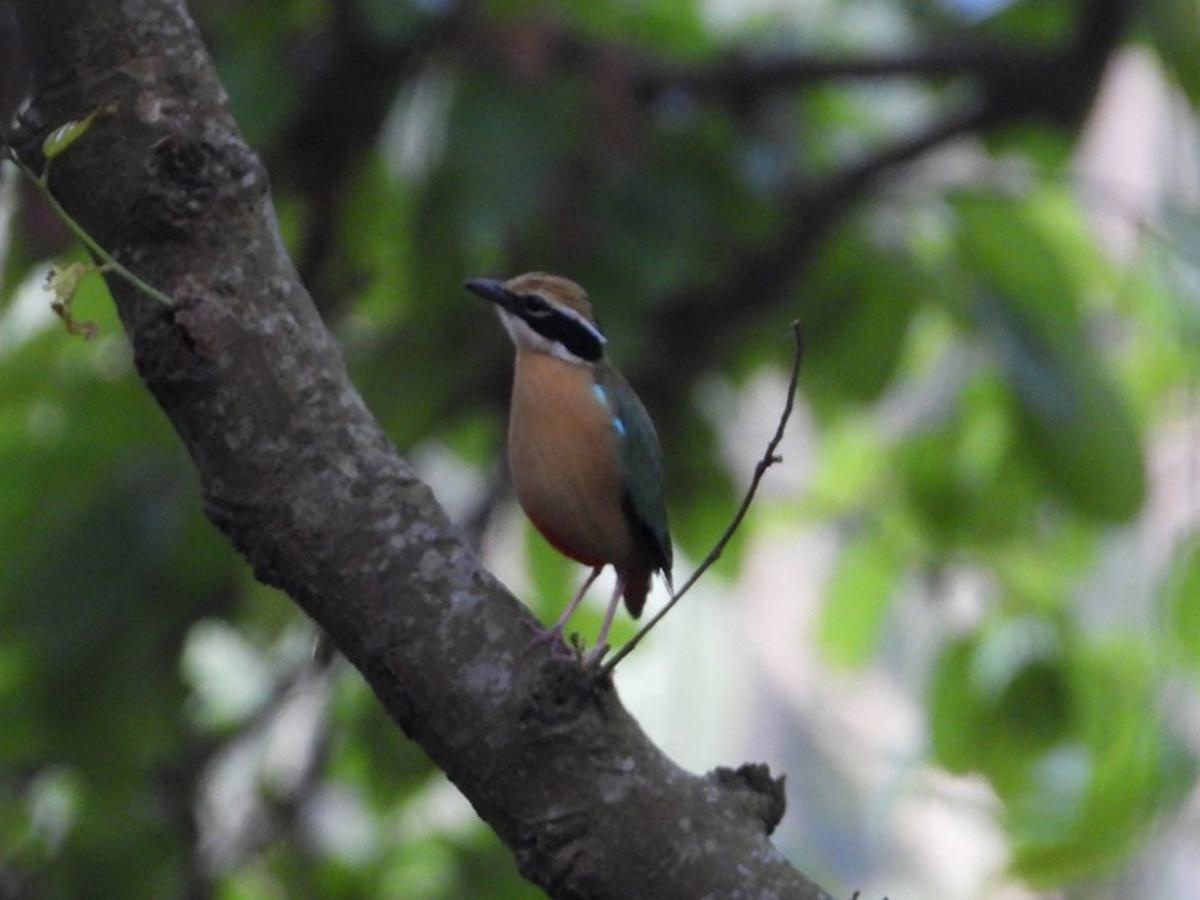pitta: (452, 244, 715, 643)
